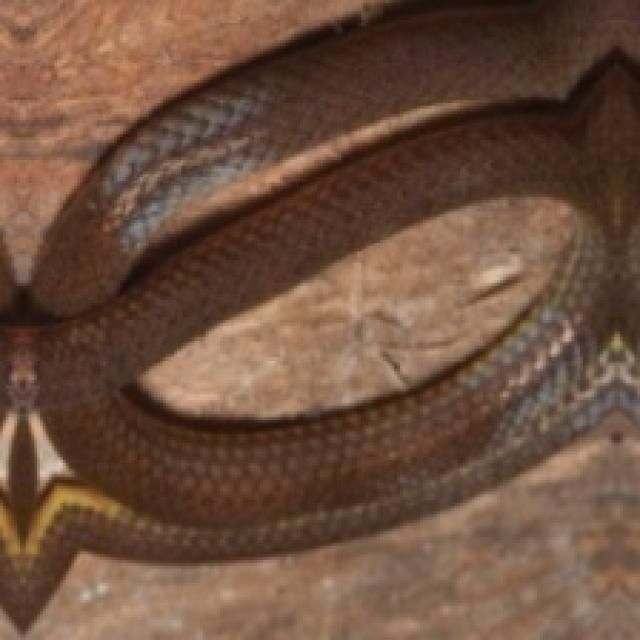gervais worm snake: (0, 4, 640, 622)
